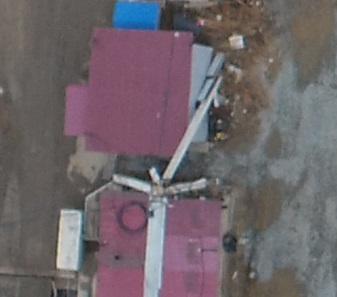opora: (109, 72, 225, 207)
